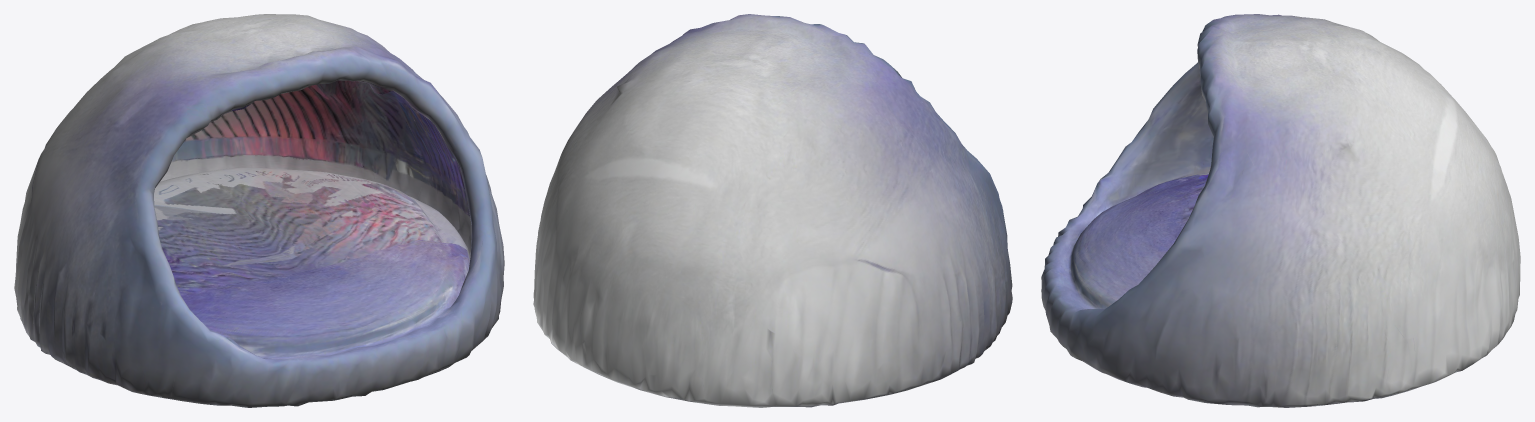
File: Sleep.glb
The picture shows the model from 3 angles, left to right: view 1: azimuth 30°, elevation 25°; view 2: azimuth 150°, elevation 25°; view 3: azimuth 270°, elevation 25°; orthographic projection.
Bounding box in the file's own units: 2 × 1.2 × 1.95.
1 material, 1 textured.
